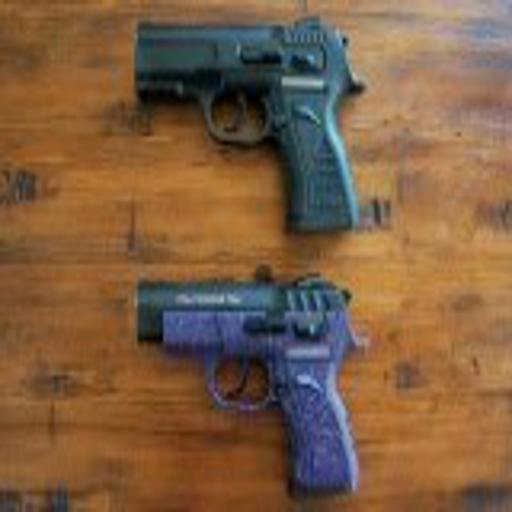Handgun: (130, 263, 363, 502), (133, 16, 367, 246)
